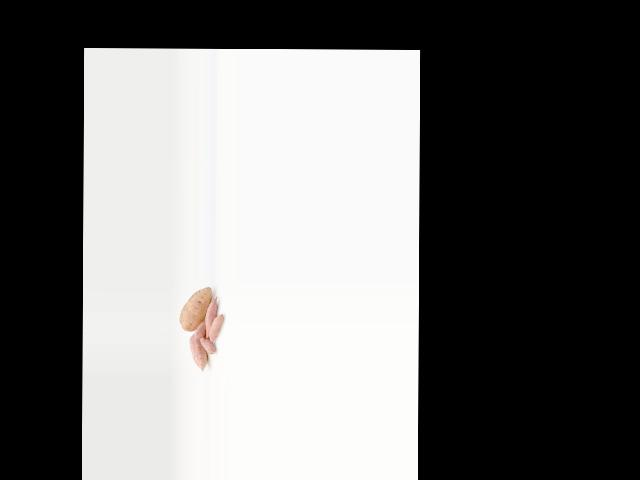sweet_potato: (189, 335, 207, 372)
